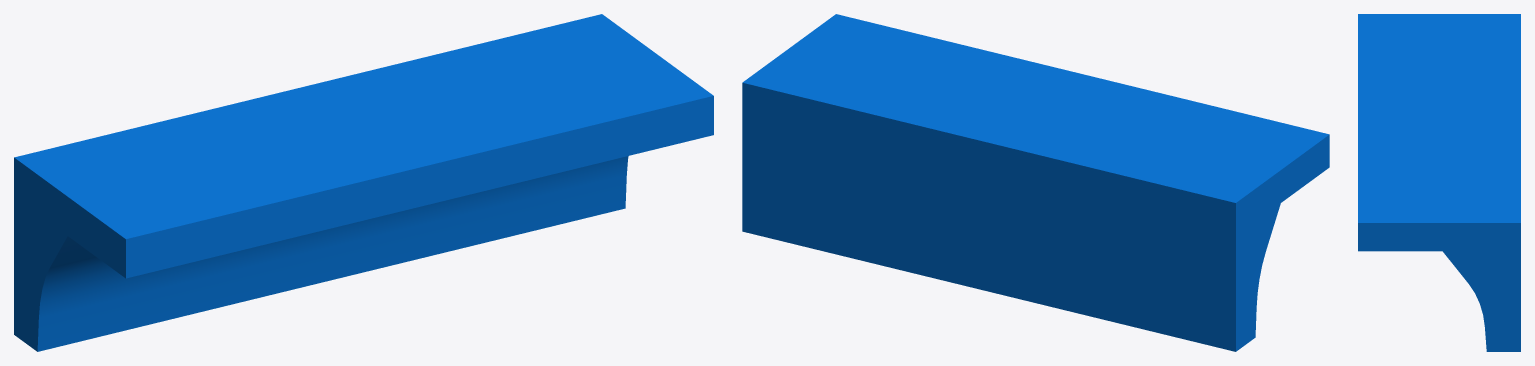
The model's file is FancyWindowFramePiece.fbx.
3 views of the same model, side by side, from view 1: azimuth 30°, elevation 25°; view 2: azimuth 150°, elevation 25°; view 3: azimuth 270°, elevation 25° (orthographic). The views are drawn at different scales.
Visible parts, largest first — view 1: pCube70; view 2: pCube70; view 3: pCube70.
Boxes of the visible parts, <box> form: pCube70: <box>14,14,713,351</box>; pCube70: <box>742,14,1329,351</box>; pCube70: <box>1358,14,1520,351</box>.
Bounding box in the file's own units: 1.68 × 0.4837 × 0.5524.
